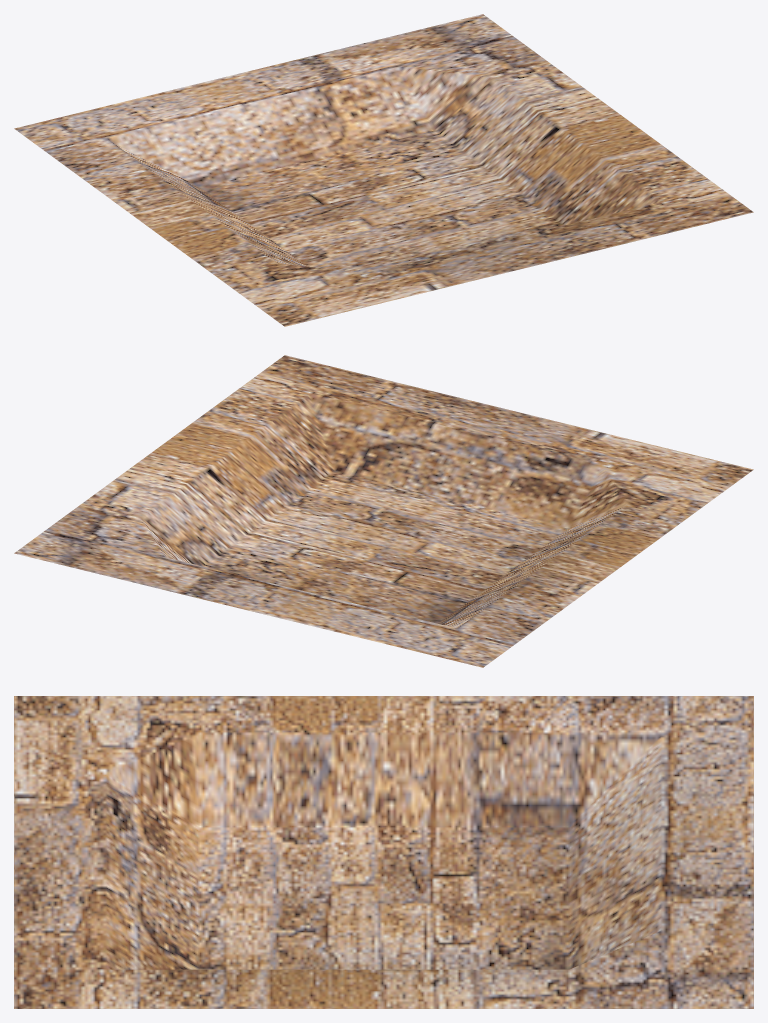
Rendered from map1.obj.
3 views of the same model, one above another, from view 1: azimuth 30°, elevation 25°; view 2: azimuth 150°, elevation 25°; view 3: azimuth 270°, elevation 25° (orthographic). The views are drawn at different scales.
Parts seen in each view (by area): view 1: plane; view 2: plane; view 3: plane.
Part boxes in pixels (bbox=[...]): plane: bbox=[14, 14, 753, 326]; plane: bbox=[14, 355, 753, 667]; plane: bbox=[14, 696, 753, 1008].
Bounding box in the file's own units: 15.73 × 1.19 × 15.73.
1 material, 1 textured.
